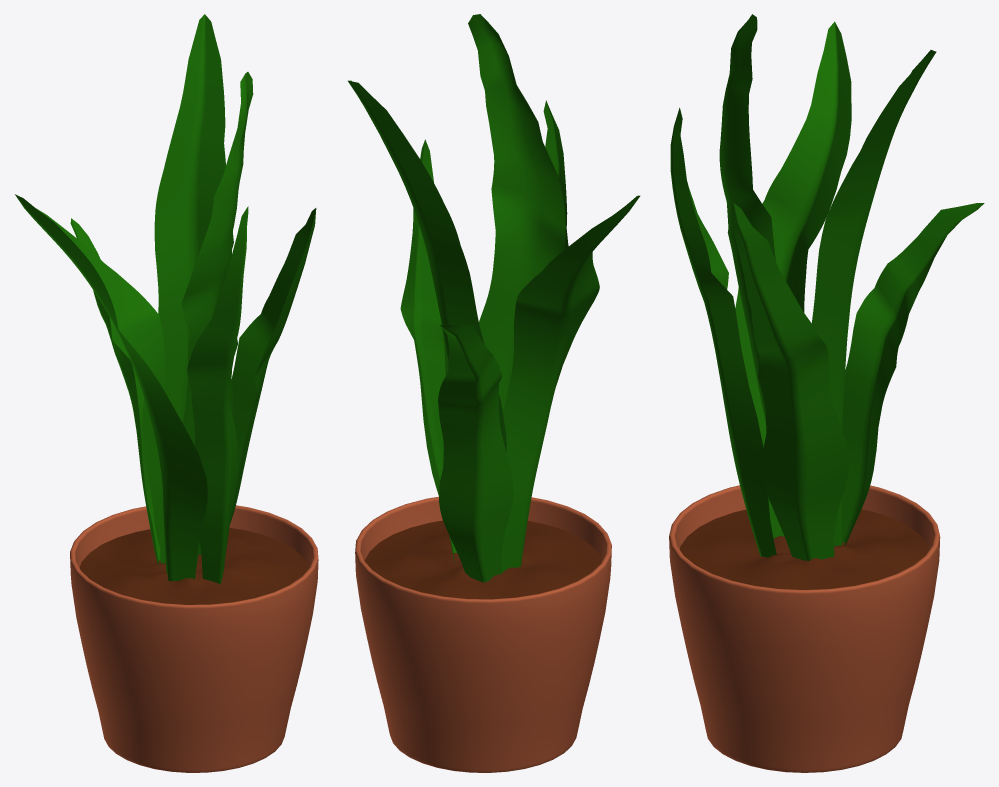
File: plant.obj
The picture shows the model from 3 angles, left to right: view 1: azimuth 30°, elevation 25°; view 2: azimuth 150°, elevation 25°; view 3: azimuth 270°, elevation 25°; orthographic projection. The views are drawn at different scales.
Parts seen in each view (by area): view 1: Plant; view 2: Plant; view 3: Plant.
Part boxes in pixels (x1=…): Plant: x1=15, y1=14, x2=318, y2=772; Plant: x1=348, y1=14, x2=640, y2=772; Plant: x1=669, y1=14, x2=984, y2=772.
Bounding box in the file's own units: 0.8288 × 1.95 × 0.7607.
